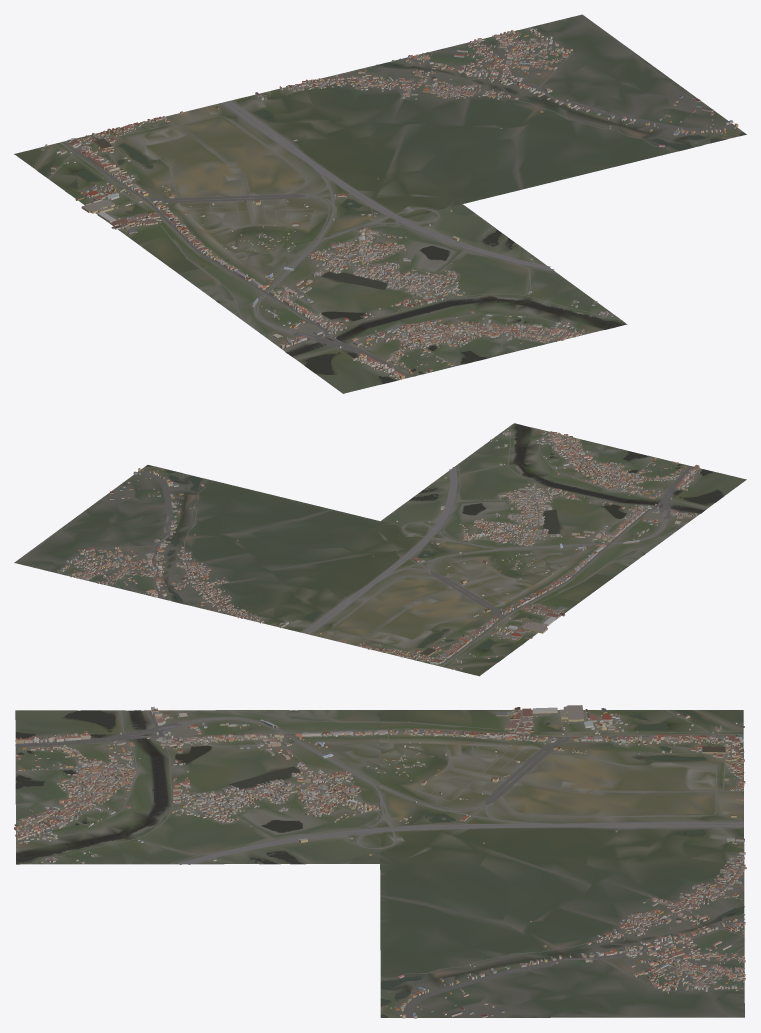
3 views of the same model, one above another, from view 1: azimuth 30°, elevation 25°; view 2: azimuth 150°, elevation 25°; view 3: azimuth 270°, elevation 25° (orthographic). The views are drawn at different scales.
Parts seen in each view (by area): view 1: ground, buildings, roads, water; view 2: ground, buildings, roads, water; view 3: ground, buildings, roads, water.
Boxes of the visible parts, box(x1,y1,x2,y2) form: ground: box(14, 14, 746, 393); buildings: box(41, 27, 738, 379); roads: box(49, 27, 734, 378); water: box(38, 62, 745, 383); ground: box(14, 423, 746, 676); buildings: box(57, 429, 700, 669); roads: box(57, 426, 707, 667); water: box(145, 423, 723, 662); ground: box(15, 710, 744, 1017); buildings: box(14, 705, 746, 1018); roads: box(15, 710, 744, 1017); water: box(15, 710, 744, 1017).
Size of the model in its own units: 2840 by 26.87 by 2822.
